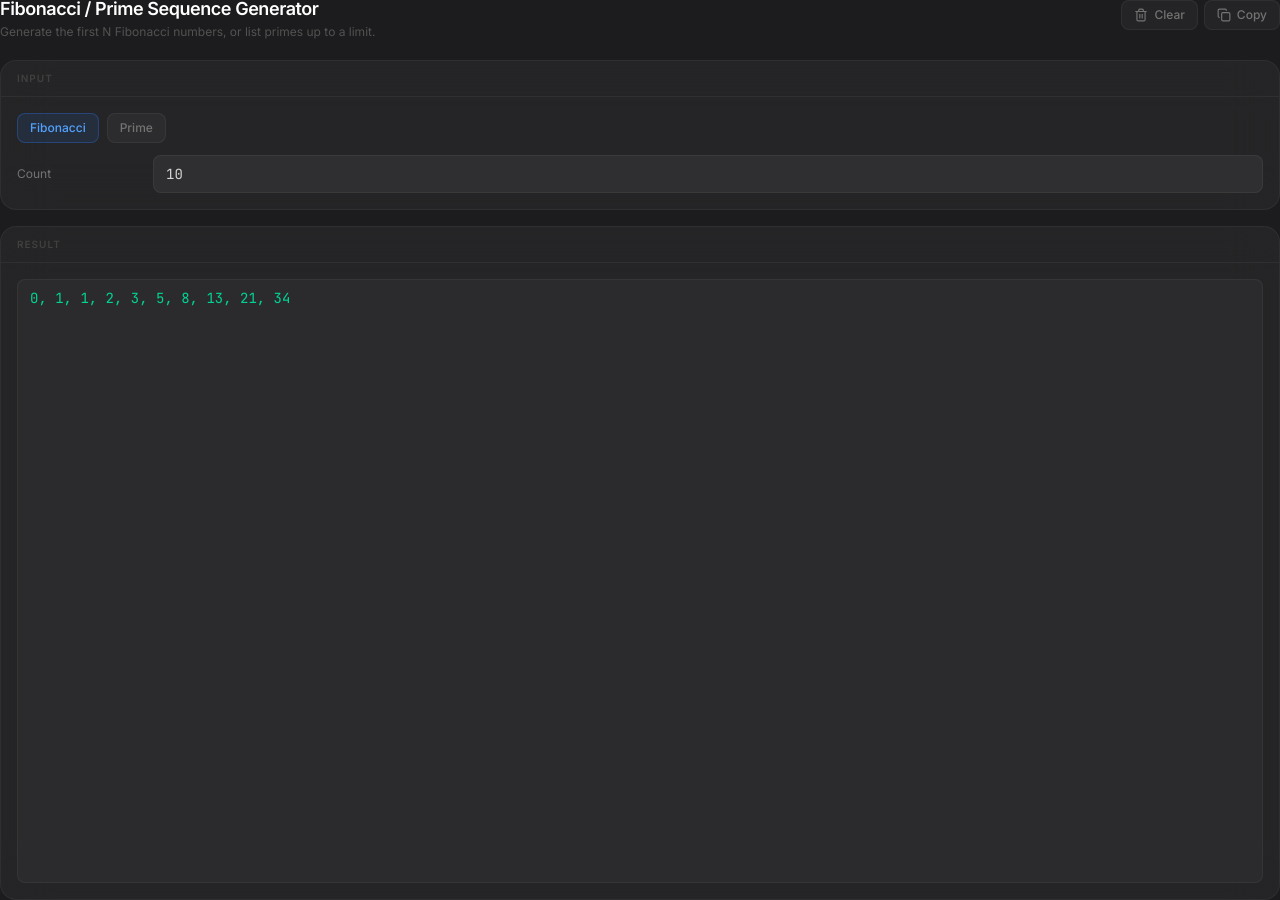
Test: FibonacciPrimeGeneratorTool › shows an error for an invalid prime limit
This screenshot has width=1280, height=900.
Click the button labelled "Prime" at {"x": 136, "y": 128}, box x1=107 y1=113 x2=166 y2=143
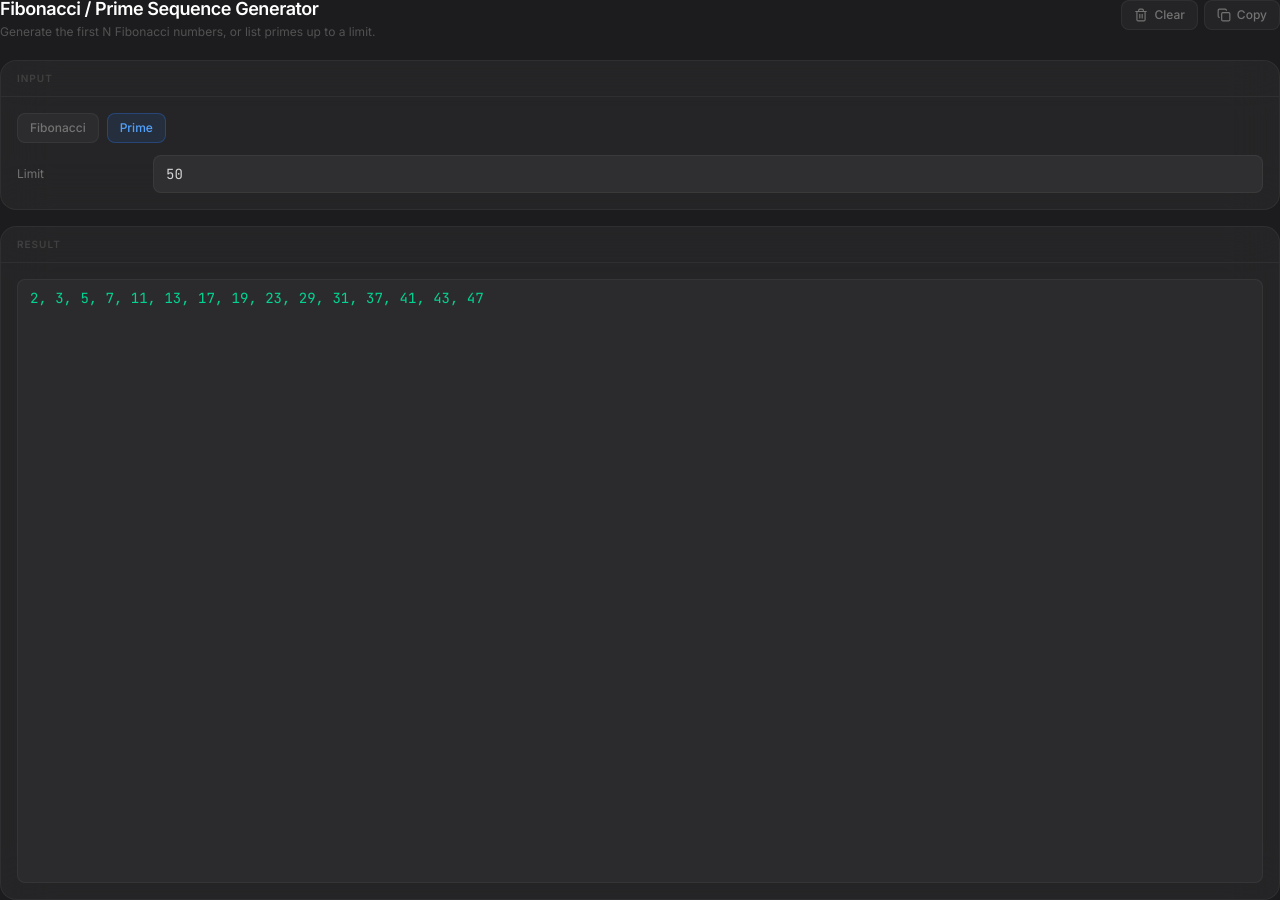
Type "1" into the field labelled "Limit" at {"x": 708, "y": 174}, box x1=153 y1=155 x2=1263 y2=193
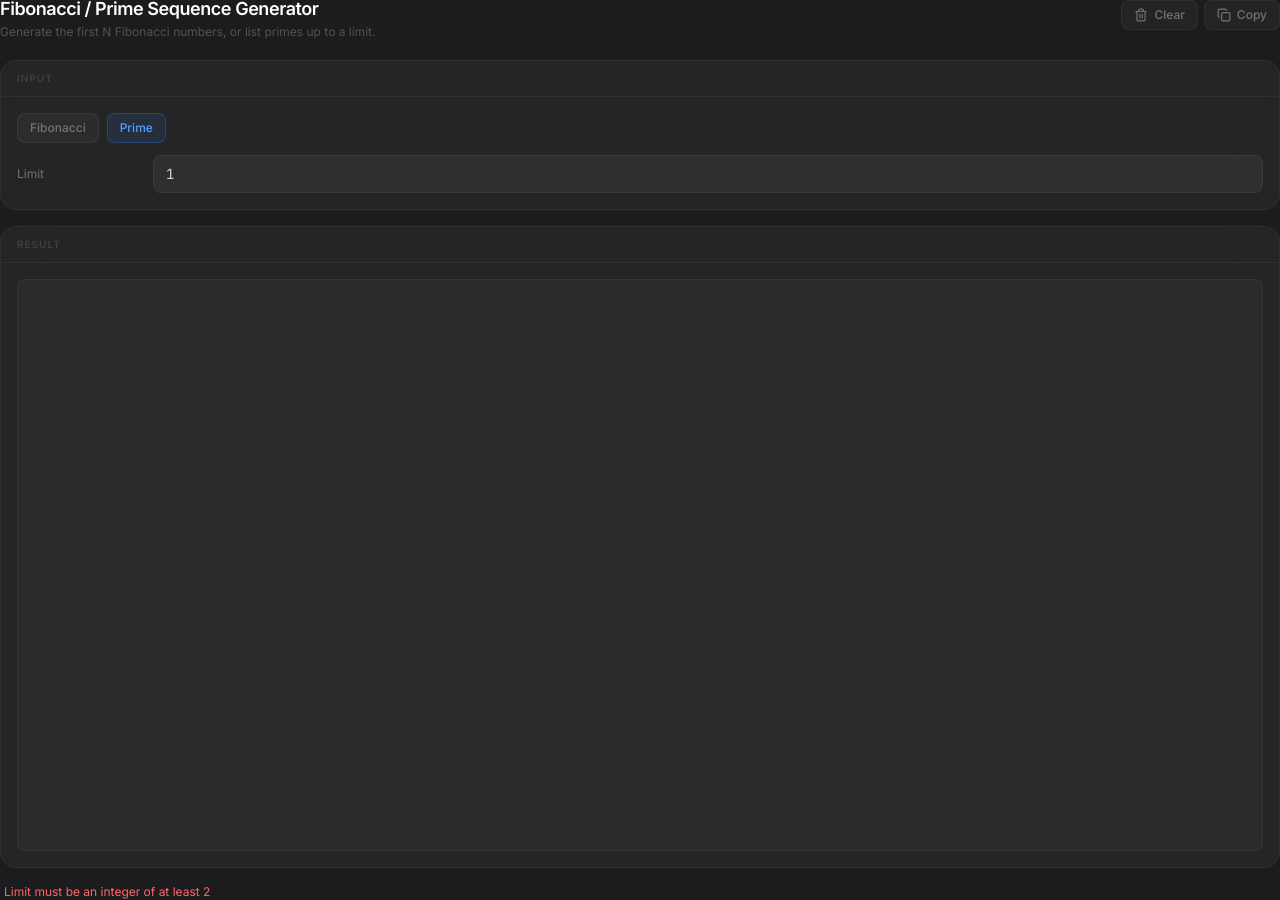
Check: the text "Limit must be an integer of at least 2" is shown, box x1=4 y1=884 x2=210 y2=899
